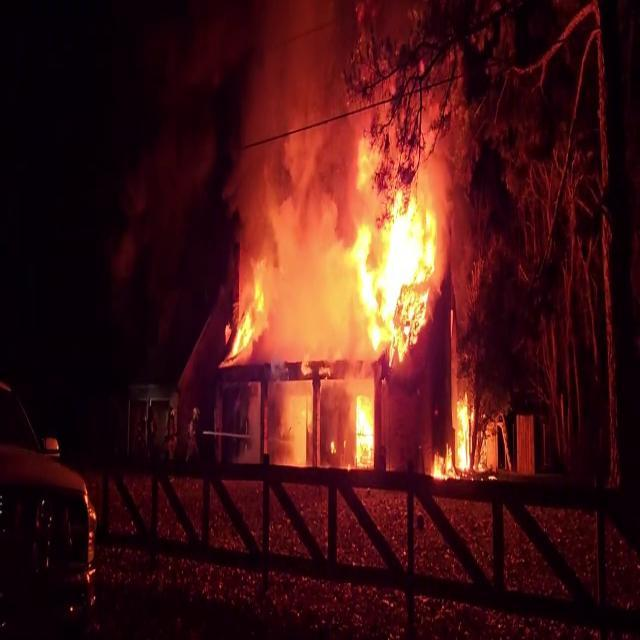Fire: (341, 182, 442, 354), (431, 384, 479, 488)
Smoke: (221, 1, 357, 362)
